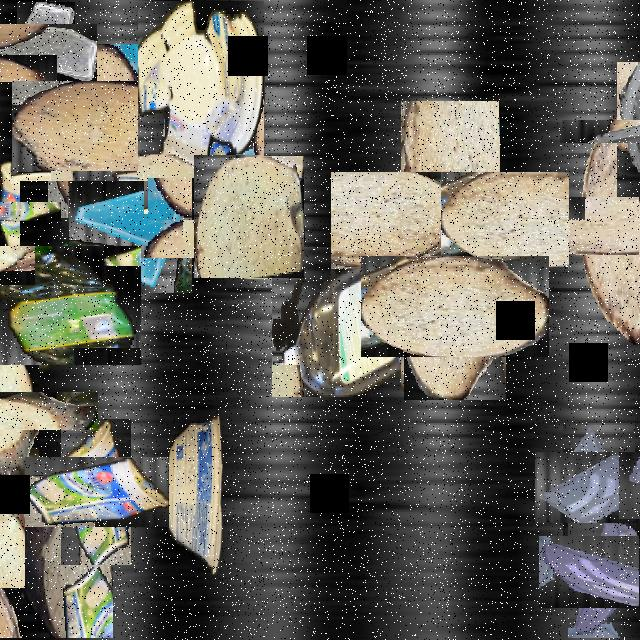glass: (84, 151, 210, 276), (148, 54, 242, 220), (549, 437, 640, 537), (553, 521, 640, 623), (6, 13, 86, 94), (588, 91, 640, 171)
plastic: (366, 136, 534, 304), (138, 2, 264, 180), (272, 247, 418, 397), (0, 235, 130, 376), (42, 438, 150, 546), (167, 416, 223, 572), (0, 180, 40, 242)
wood: (382, 233, 528, 379), (30, 63, 166, 200), (0, 496, 113, 638), (537, 152, 640, 299), (194, 156, 304, 278), (0, 361, 68, 459), (0, 400, 25, 588)
